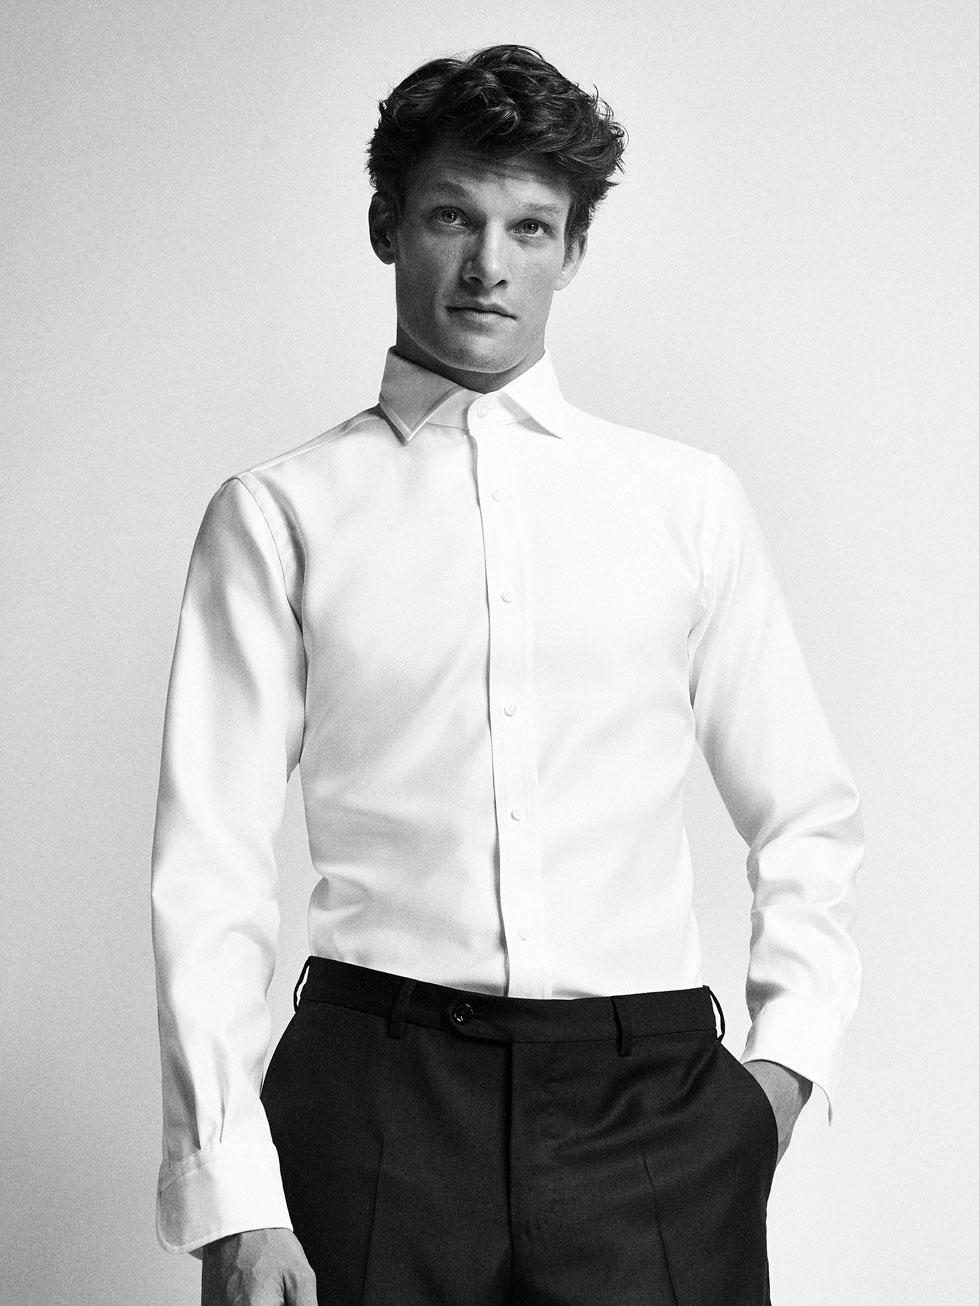teeshirt: (153, 341, 877, 1205)
